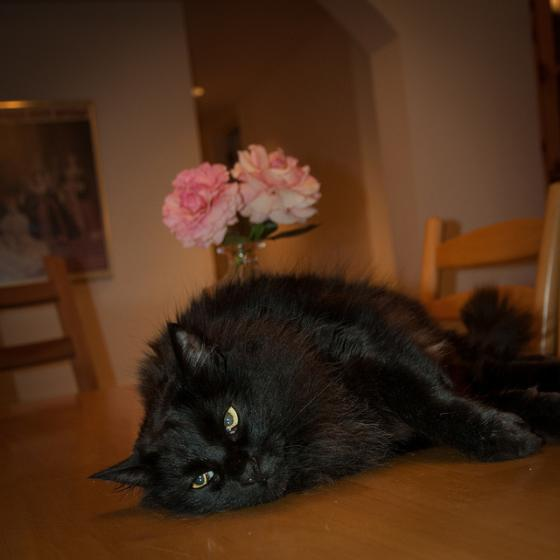cat: (87, 272, 559, 514)
chair: (419, 182, 558, 352), (0, 256, 100, 409)
dining table: (0, 378, 560, 557)
potted plant: (158, 140, 328, 292)
vase: (215, 242, 269, 289)
